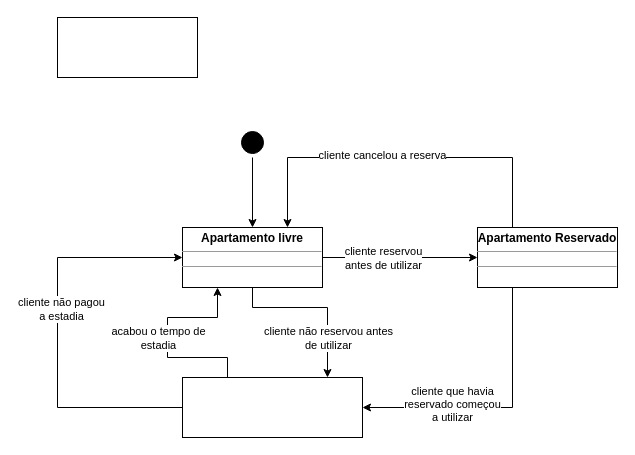
Image size: 635x455. Some labels were removed from this diagram. Here are the shapes that lost their labels. From the top down, the box of each, then its label:
(56, 16, 198, 78): Class
(182, 376, 362, 438): Apartamento indisponível
